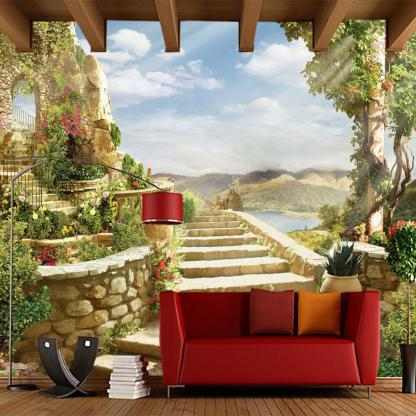buku: (109, 354, 153, 404)
sova: (154, 283, 383, 401)
